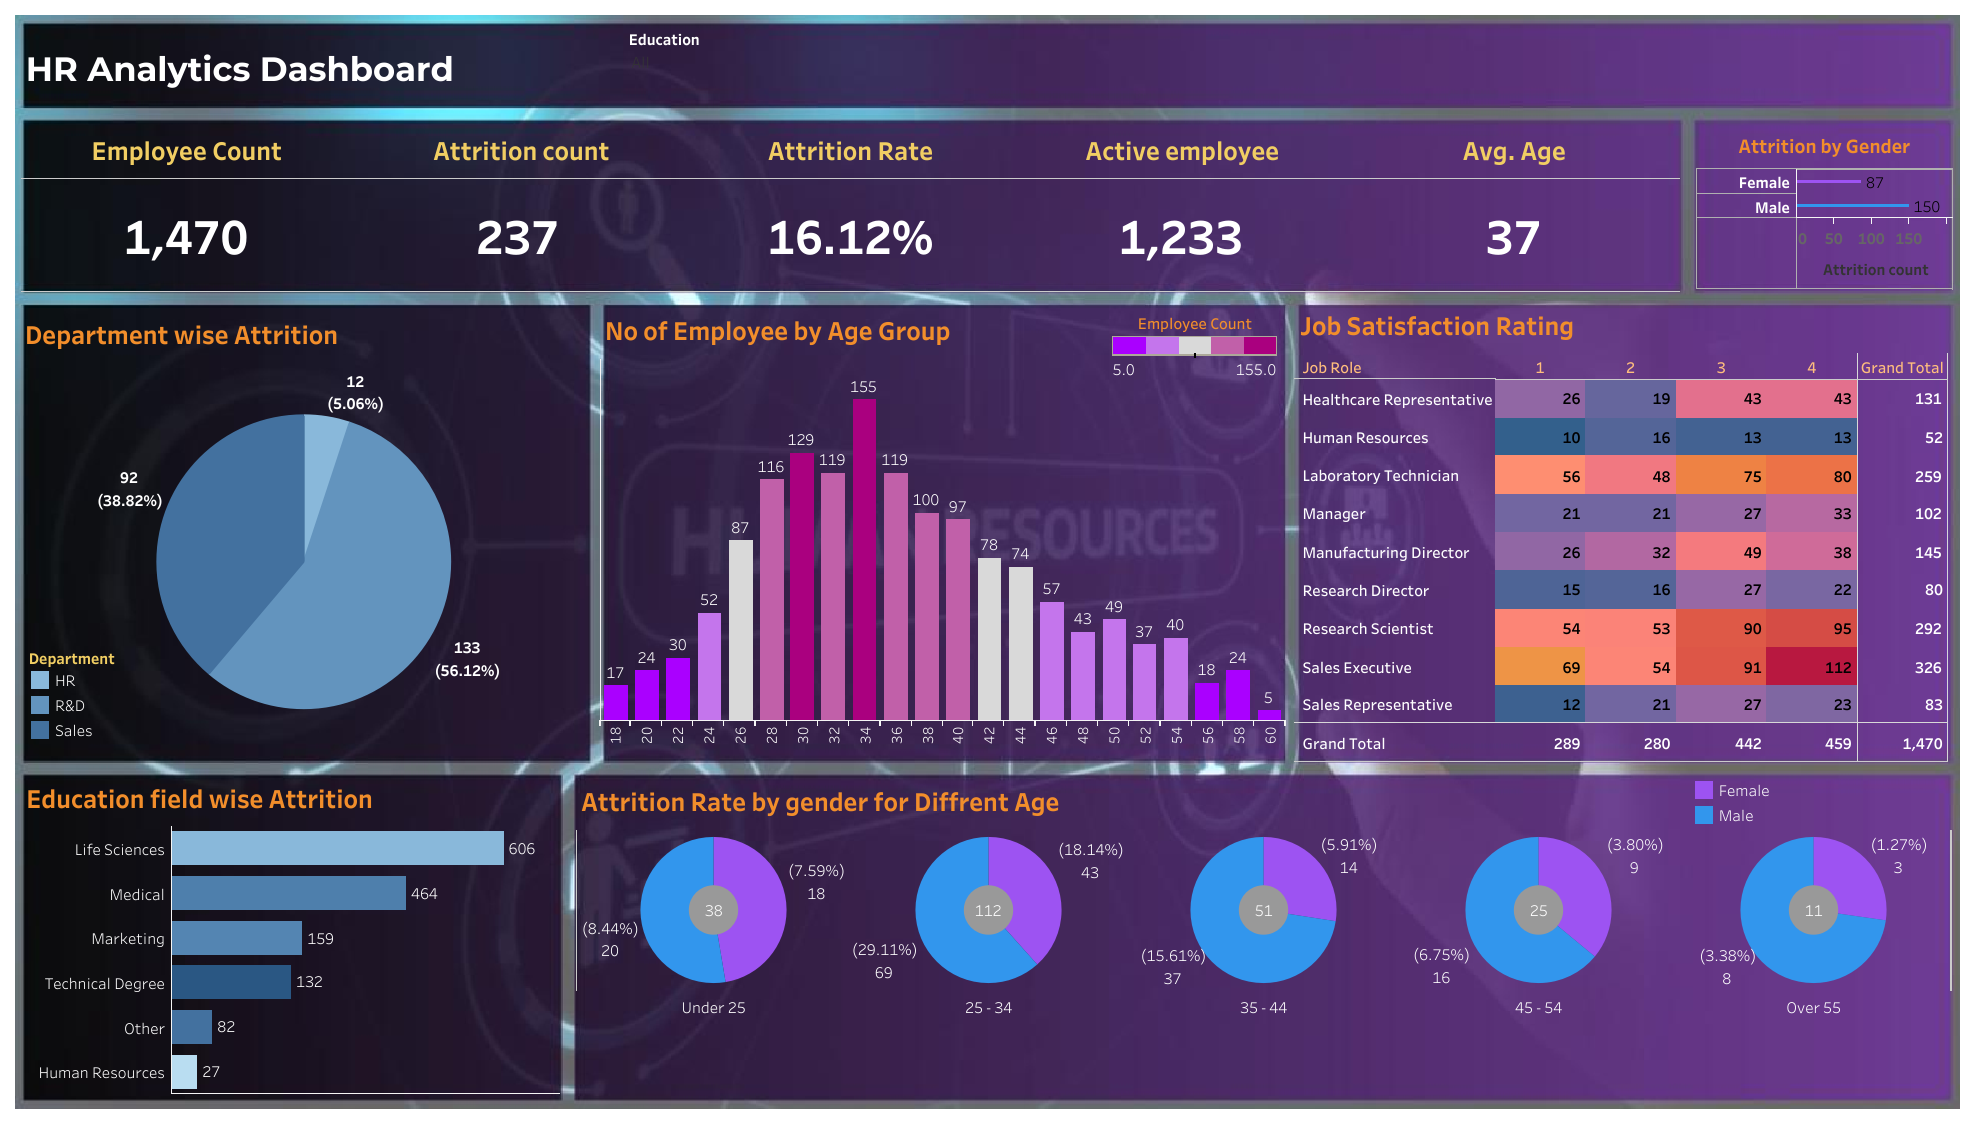

The page's visual inventory and layout, read from the dashboard file:
{"tool":"tableau","page":{"name":"Dashboard 1","canvas":[1580,900],"ordinal":0},"visuals":[{"type":"image","param":"Image/HR background.pptx.jpg","box":[8,8,1564,884]},{"type":"filter","title":"Department wise Attrition","param":"[federated.1lfgohh08y3xs617qztkt0pu2ta6].[none:Education:nk]","box":[503,21,160,78]},{"type":"text","box":[18,22,712,66]},{"type":"worksheet","title":"KPI's","mark":"Automatic","box":[17,98,1328,136]},{"type":"worksheet","title":"Attrition by Gender","mark":"Bar","rows":["Gender"],"cols":["Calculation_298645010399698945"],"box":[1357,99,208,133]},{"type":"worksheet","title":"Job Satisfaction Rating","mark":"Square","rows":["Job Role"],"cols":["Job Satisfaction"],"box":[1036,240,523,370]},{"type":"worksheet","title":"No of Employee by Age Group","mark":"Bar","rows":["Employee Count"],"cols":["Age (bin)"],"box":[480,244,548,365]},{"type":"legend","title":"No of Employee by Age Group","param":"[federated.1lfgohh08y3xs617qztkt0pu2ta6].[sum:Employee Count:qk]","box":[886,245,140,63]},{"type":"worksheet","title":"Department wise Attrition","mark":"Pie","box":[16,247,454,361]},{"type":"legend","title":"Department wise Attrition","param":"[federated.1lfgohh08y3xs617qztkt0pu2ta6].[none:Department:nk]","box":[22,515,112,85]},{"type":"worksheet","title":"Education field wise Attrition","mark":"Automatic","rows":["Education Field"],"cols":["Calculation_298645010399698945"],"box":[17,618,431,257]},{"type":"worksheet","title":"Attrition Rate by gender for Diffrent Age","mark":"Pie","rows":["Calculation_298645010490458121","Calculation_298645010490458121"],"cols":["CF_age band"],"box":[461,621,1101,194]},{"type":"legend","title":"Attrition Rate by gender for Diffrent Age","param":"[federated.1lfgohh08y3xs617qztkt0pu2ta6].[none:Gender:nk]","box":[1353,622,140,42]}]}

Visuals, with their boxes in screenshot pixels (x1, y1, x2, y2), scaled from the page's 1580x900 canvas onto the 1974x1124 screenshot:
image: [10,10,1964,1114]
"Department wise Attrition" filter: [628,26,828,124]
text: [22,27,912,110]
"KPI's" worksheet: [21,122,1680,292]
"Attrition by Gender" worksheet (Bar marks): [1695,124,1955,290]
"Job Satisfaction Rating" worksheet (Square marks): [1294,300,1948,762]
"No of Employee by Age Group" worksheet (Bar marks): [600,305,1284,761]
"No of Employee by Age Group" legend: [1107,306,1282,385]
"Department wise Attrition" worksheet (Pie marks): [20,308,587,759]
"Department wise Attrition" legend: [27,643,167,749]
"Education field wise Attrition" worksheet: [21,772,560,1093]
"Attrition Rate by gender for Diffrent Age" worksheet (Pie marks): [576,776,1952,1018]
"Attrition Rate by gender for Diffrent Age" legend: [1690,777,1865,829]
